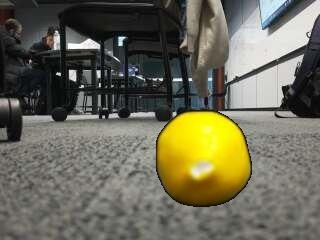lemon: (157, 112, 249, 207)
